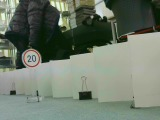speed_20: (20, 47, 41, 68)
